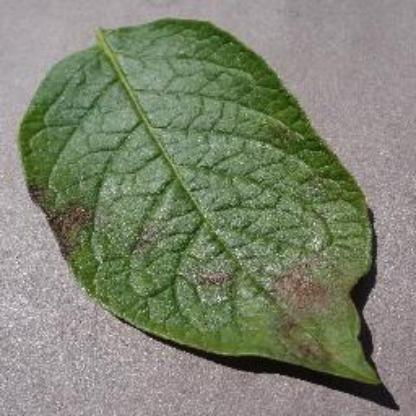Late-Blight: (18, 18, 392, 390)
